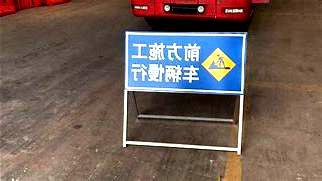sign: (125, 31, 245, 95)
